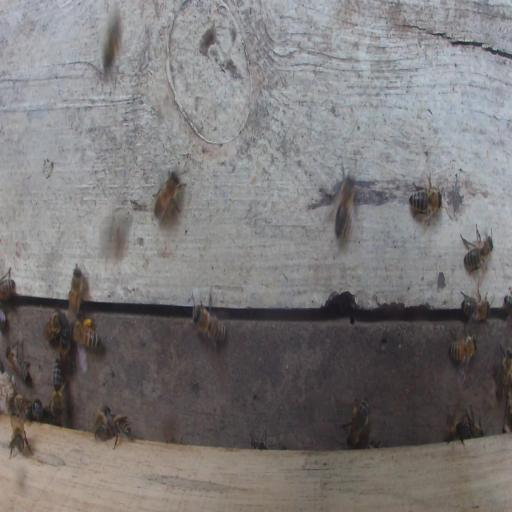nonpollenbee: (408, 174, 445, 226), (461, 224, 494, 280), (192, 300, 227, 349), (153, 169, 185, 222), (334, 174, 357, 239), (5, 346, 32, 384), (9, 416, 31, 459), (449, 334, 477, 365), (109, 414, 132, 450), (69, 263, 83, 317), (59, 328, 74, 374), (461, 298, 491, 321), (45, 310, 66, 342), (52, 359, 63, 417), (499, 347, 512, 392), (0, 267, 16, 302), (11, 392, 32, 418), (447, 422, 471, 444), (95, 407, 110, 439), (250, 429, 267, 449), (29, 399, 43, 422), (468, 419, 483, 437), (503, 295, 512, 316)
pollenbee: (346, 397, 370, 448), (71, 319, 101, 350)
